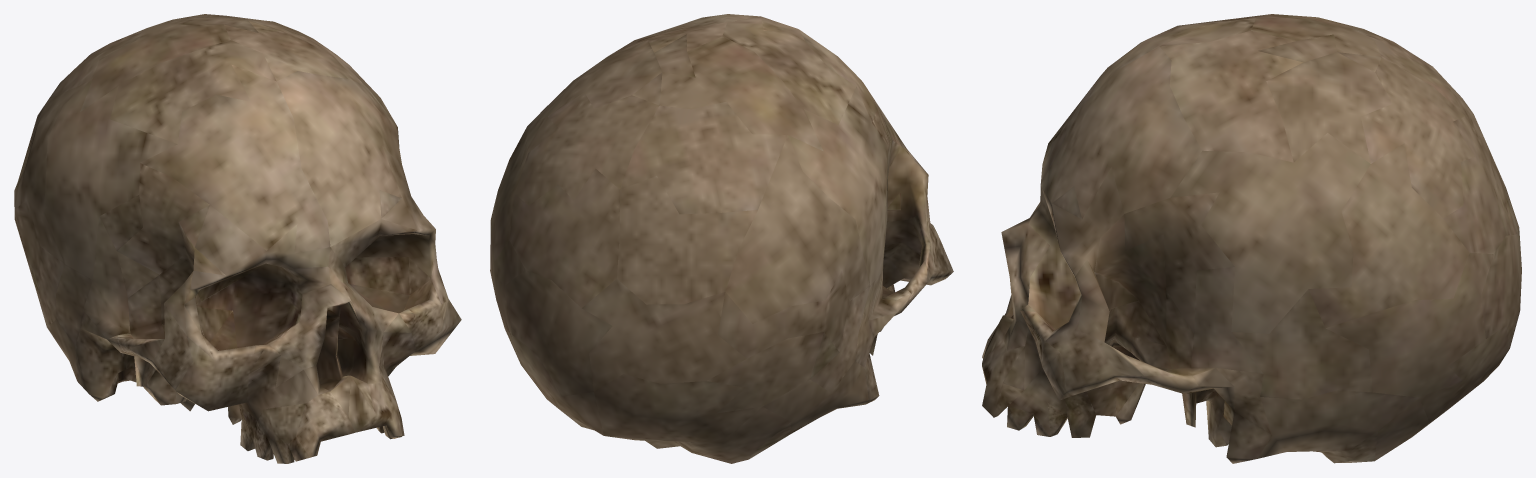
File: h_skull.glb
3 renders of one model, left to right at view 1: azimuth 30°, elevation 25°; view 2: azimuth 150°, elevation 25°; view 3: azimuth 270°, elevation 25°, orthographic. The views are drawn at different scales.
Parts seen in each view (by area): view 1: h_skull; view 2: h_skull; view 3: h_skull.
Part boxes in pixels (<box>): h_skull: <box>14,14,461,463</box>; h_skull: <box>490,14,953,463</box>; h_skull: <box>982,14,1521,463</box>.
Size of the model in its own units: 0.7028 by 0.7491 by 0.9072.
1 material, 1 textured.
